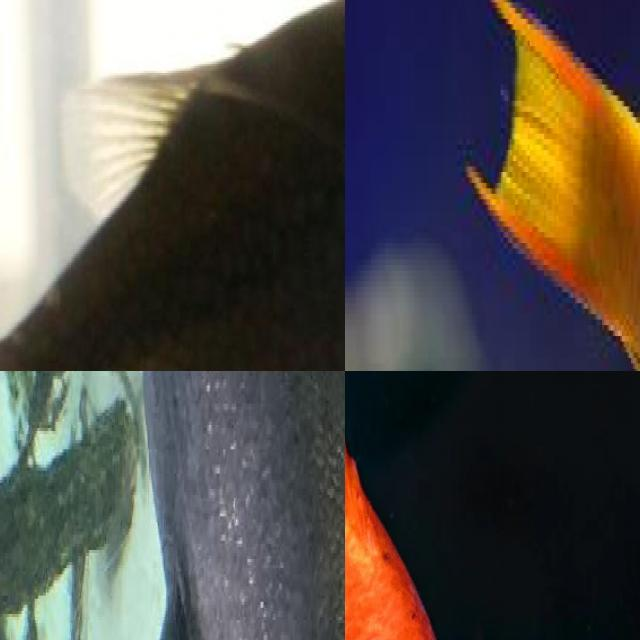fish: (0, 0, 345, 371), (457, 0, 640, 371), (127, 371, 345, 640), (560, 588, 640, 640)
